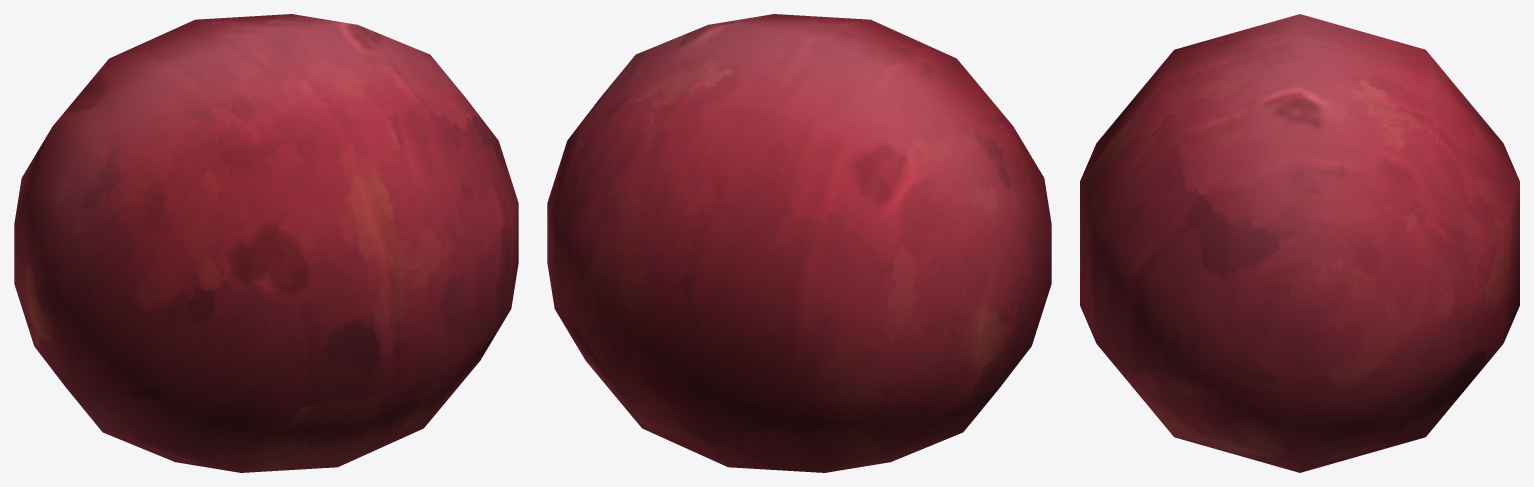
File: Potato_Red.fbx
The picture shows the model from 3 angles, left to right: view 1: azimuth 30°, elevation 25°; view 2: azimuth 150°, elevation 25°; view 3: azimuth 270°, elevation 25°; orthographic projection. The views are drawn at different scales.
Visible parts, largest first — view 1: Potato_Red; view 2: Potato_Red; view 3: Potato_Red.
Boxes of the visible parts, x1,y1,x2,y2 form: Potato_Red: (14,14,518,472); Potato_Red: (547,14,1051,472); Potato_Red: (1080,14,1519,472).
Bounding box in the file's own units: 37.34 × 34.34 × 33.87.
